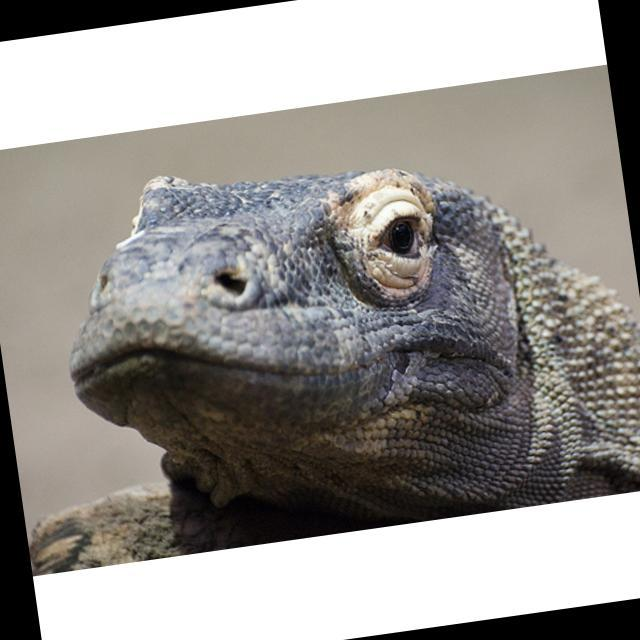KomodoDragon: (27, 90, 640, 566)
